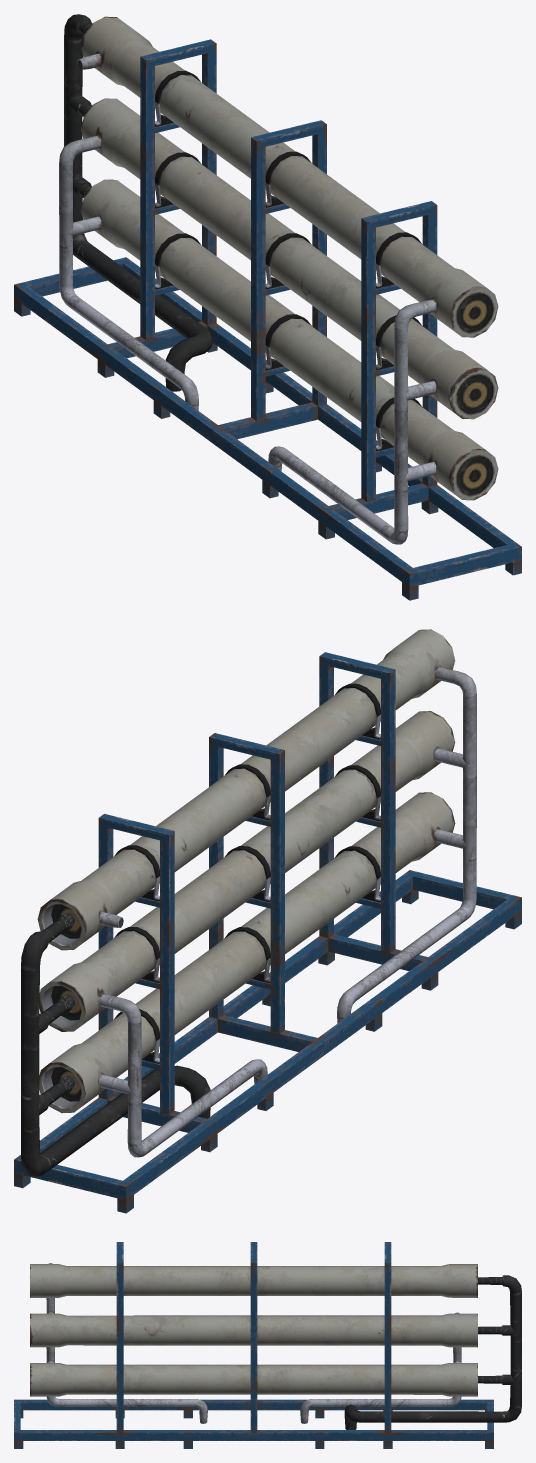
The model's file is sm22_043_cleaningunit01a.fbx.
3 renders of one model, top to bottom at view 1: azimuth 30°, elevation 25°; view 2: azimuth 150°, elevation 25°; view 3: azimuth 270°, elevation 25°, orthographic. The views are drawn at different scales.
Visible parts, largest first — view 1: LOD_1_Group_0_Sub_1__sm22_043_CleaningUnit01A_A_Mat; view 2: LOD_1_Group_0_Sub_1__sm22_043_CleaningUnit01A_A_Mat; view 3: LOD_1_Group_0_Sub_1__sm22_043_CleaningUnit01A_A_Mat.
Boxes of the visible parts, box(x1,y1,x2,y2) form: LOD_1_Group_0_Sub_1__sm22_043_CleaningUnit01A_A_Mat: box(14, 14, 521, 600); LOD_1_Group_0_Sub_1__sm22_043_CleaningUnit01A_A_Mat: box(14, 629, 521, 1213); LOD_1_Group_0_Sub_1__sm22_043_CleaningUnit01A_A_Mat: box(14, 1242, 521, 1448).
Bounding box in the file's own units: 0.6839 × 1.79 × 4.42.
